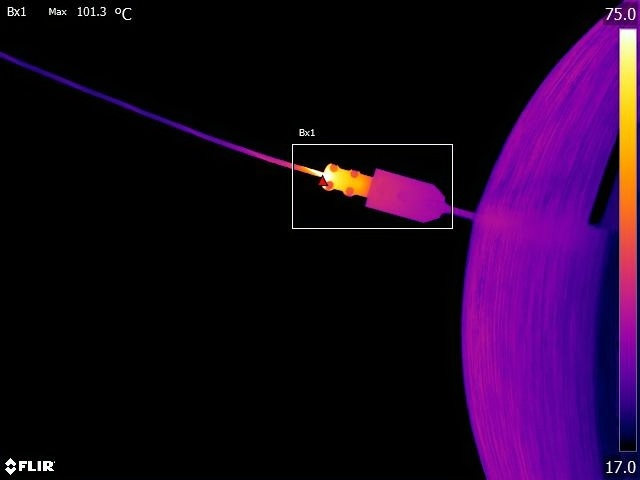clamp: (295, 148, 446, 223)
